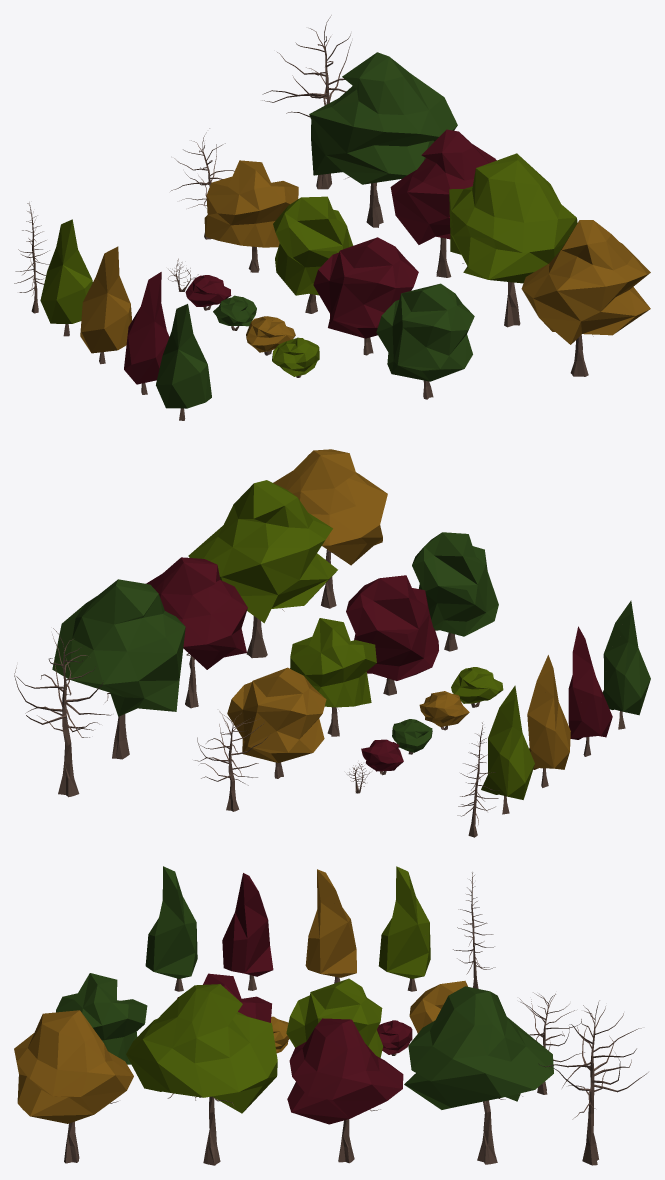
Rendered from trees.fbx.
The picture shows the model from 3 angles, top to bottom: view 1: azimuth 30°, elevation 25°; view 2: azimuth 150°, elevation 25°; view 3: azimuth 270°, elevation 25°; orthographic projection.
Visible parts, largest first — view 1: LOW_POLY_Tree_2_005, LOW_POLY_Tree_2_008, LOW_POLY_Tree_2_006, LOW_POLY_Tree_1_007, LOW_POLY_Tree_1_008, LOW_POLY_Tree_2_007, LOW_POLY_Tree_1_005, LOW_POLY_Tree_1_006, LOW_POLY_Tree_3_008, LOW_POLY_Tree_3_006, LOW_POLY_Tree_3_005, LOW_POLY_Tree_3_007 (+6 smaller); view 2: LOW_POLY_Tree_2_005, LOW_POLY_Tree_2_008, LOW_POLY_Tree_2_006, LOW_POLY_Tree_2_007, LOW_POLY_Tree_1_008, LOW_POLY_Tree_1_005, LOW_POLY_Tree_1_007, LOW_POLY_Tree_1_006, LOW_POLY_Tree_3_005, LOW_POLY_Tree_3_008, LOW_POLY_Tree_3_006, LOW_POLY_Tree_3_007 (+7 smaller); view 3: LOW_POLY_Tree_2_008, LOW_POLY_Tree_2_005, LOW_POLY_Tree_2_006, LOW_POLY_Tree_2_007, LOW_POLY_Tree_3_008, LOW_POLY_Tree_3_005, LOW_POLY_Tree_1_006, LOW_POLY_Tree_1_007, LOW_POLY_Tree_3_006, LOW_POLY_Tree_3_007, LOW_POLY_Tree_2_009, LOW_POLY_Tree_1_005 (+5 smaller).
Boxes of the visible parts, <box> form: LOW_POLY_Tree_2_005: <box>309,52,457,227</box>; LOW_POLY_Tree_2_008: <box>449,153,577,327</box>; LOW_POLY_Tree_2_006: <box>521,220,650,376</box>; LOW_POLY_Tree_1_007: <box>376,283,474,399</box>; LOW_POLY_Tree_1_008: <box>313,237,418,355</box>; LOW_POLY_Tree_2_007: <box>390,129,496,277</box>; LOW_POLY_Tree_1_005: <box>204,160,298,272</box>; LOW_POLY_Tree_1_006: <box>273,196,353,313</box>; LOW_POLY_Tree_3_008: <box>156,304,211,420</box>; LOW_POLY_Tree_3_006: <box>80,246,132,364</box>; LOW_POLY_Tree_3_005: <box>40,219,92,336</box>; LOW_POLY_Tree_3_007: <box>124,272,169,394</box>; LOW_POLY_Tree_2_005: <box>52,579,185,759</box>; LOW_POLY_Tree_2_008: <box>188,480,337,658</box>; LOW_POLY_Tree_2_006: <box>273,449,387,608</box>; LOW_POLY_Tree_2_007: <box>146,557,247,708</box>; LOW_POLY_Tree_1_008: <box>346,575,438,695</box>; LOW_POLY_Tree_1_005: <box>227,667,326,778</box>; LOW_POLY_Tree_1_007: <box>412,532,498,651</box>; LOW_POLY_Tree_1_006: <box>290,618,376,736</box>; LOW_POLY_Tree_3_005: <box>481,685,534,814</box>; LOW_POLY_Tree_3_008: <box>602,600,650,729</box>; LOW_POLY_Tree_3_006: <box>527,655,570,787</box>; LOW_POLY_Tree_3_007: <box>568,626,612,756</box>; LOW_POLY_Tree_2_008: <box>126,984,277,1165</box>; LOW_POLY_Tree_2_005: <box>404,986,553,1164</box>; LOW_POLY_Tree_2_006: <box>14,1010,133,1163</box>; LOW_POLY_Tree_2_007: <box>287,1018,403,1163</box>; LOW_POLY_Tree_3_008: <box>145,866,197,991</box>; LOW_POLY_Tree_3_005: <box>378,866,430,991</box>; LOW_POLY_Tree_1_006: <box>286,978,383,1057</box>; LOW_POLY_Tree_1_007: <box>56,973,147,1064</box>; LOW_POLY_Tree_3_006: <box>305,869,356,983</box>; LOW_POLY_Tree_3_007: <box>222,873,273,990</box>; LOW_POLY_Tree_2_009: <box>538,1000,648,1165</box>; LOW_POLY_Tree_1_005: <box>409,980,467,1033</box>.
Bounding box in the file's own units: 2303 × 864 × 2907.
